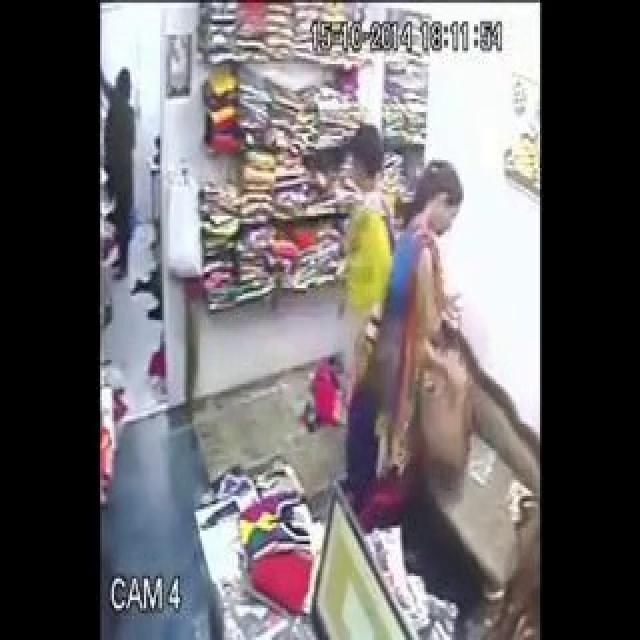Shoplifting: (376, 168, 486, 512)
